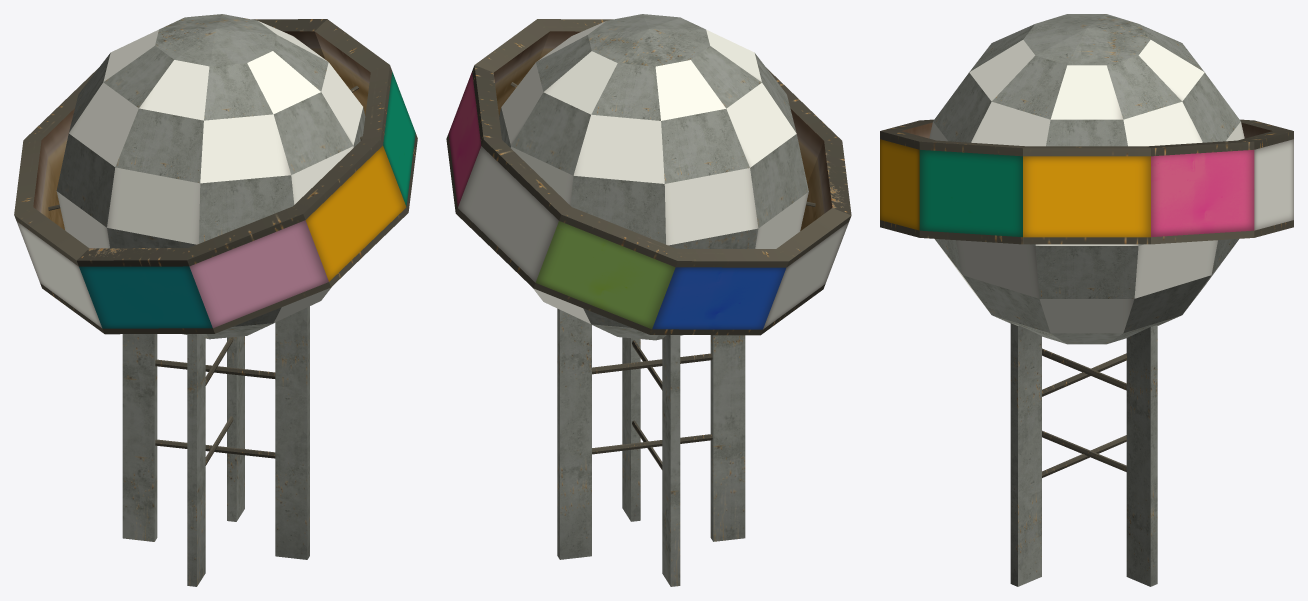
The model's file is rooftop_adball01.fbx.
The picture shows the model from 3 angles, left to right: view 1: azimuth 30°, elevation 25°; view 2: azimuth 150°, elevation 25°; view 3: azimuth 270°, elevation 25°; orthographic projection. The views are drawn at different scales.
Visible parts, largest first — view 1: rooftop_adball01; view 2: rooftop_adball01; view 3: rooftop_adball01.
Boxes of the visible parts, box(x1,y1,x2,y2) form: rooftop_adball01: box(14, 14, 417, 586); rooftop_adball01: box(446, 14, 851, 586); rooftop_adball01: box(880, 14, 1293, 586).
Bounding box in the file's own units: 484 × 700 × 497.
